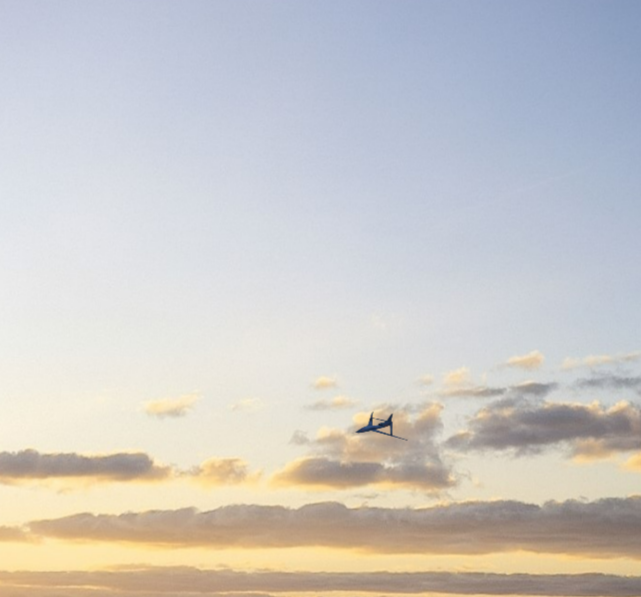military drone: (354, 411, 408, 441)
